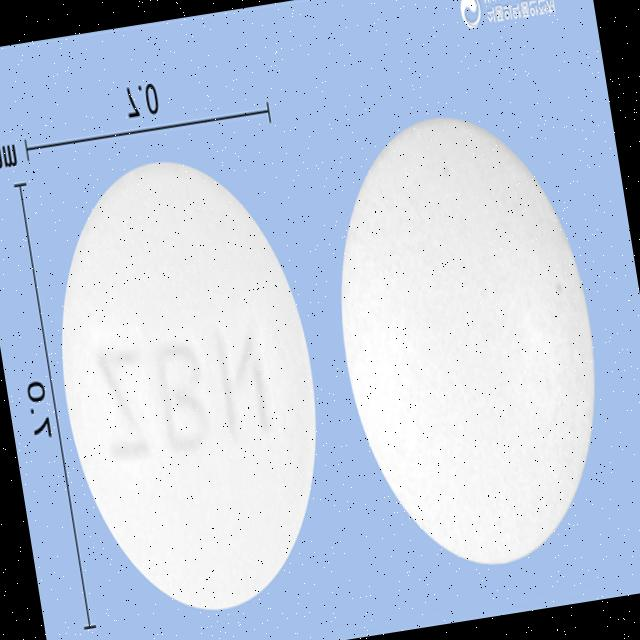Arava - 20mg: (30, 136, 350, 634)
